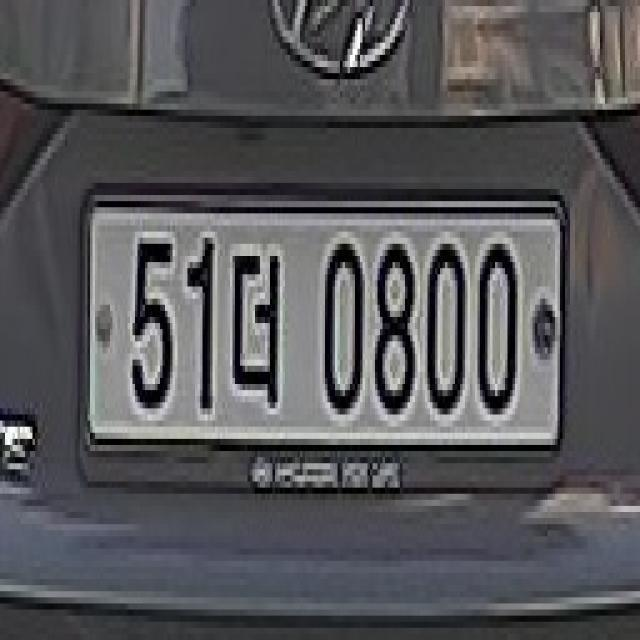0: (316, 232, 369, 424), (474, 234, 520, 436), (424, 237, 469, 432)
1: (182, 234, 228, 428)
5: (129, 222, 179, 422)
8: (372, 232, 421, 424)
deo: (232, 237, 288, 422)
license_plate: (75, 158, 572, 496)
